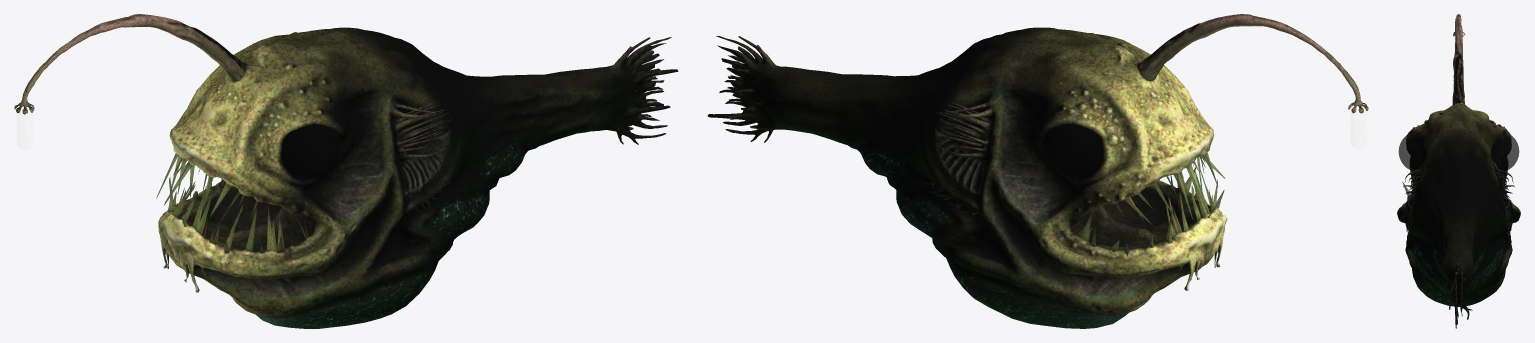
Rendered from deep-sea-fish-3dsm4.glb.
The picture shows the model from 3 angles, left to right: view 1: azimuth 30°, elevation 25°; view 2: azimuth 150°, elevation 25°; view 3: azimuth 270°, elevation 25°; orthographic projection. The views are drawn at different scales.
Parts seen in each view (by area): view 1: FishLOW_0, tOOTH.040_0, Plane_0, Sphere_0, Circle_0; view 2: FishLOW_0, Plane_0, tOOTH.040_0, Sphere_0, Circle_0; view 3: FishLOW_0, Plane_0, Sphere_0.
Part boxes in pixels (x1=…): FishLOW_0: x1=158, y1=27, x2=678, y2=328; tOOTH.040_0: x1=156, y1=153, x2=308, y2=253; Plane_0: x1=14, y1=14, x2=246, y2=114; Sphere_0: x1=281, y1=124, x2=340, y2=180; Circle_0: x1=16, y1=105, x2=33, y2=149; FishLOW_0: x1=707, y1=27, x2=1227, y2=328; Plane_0: x1=1137, y1=14, x2=1368, y2=113; tOOTH.040_0: x1=1071, y1=152, x2=1225, y2=255; Sphere_0: x1=1044, y1=124, x2=1103, y2=179; Circle_0: x1=1350, y1=104, x2=1366, y2=148; FishLOW_0: x1=1397, y1=102, x2=1520, y2=328; Plane_0: x1=1452, y1=14, x2=1465, y2=104; Sphere_0: x1=1398, y1=135, x2=1519, y2=171.
Size of the model in its own units: 22.09 by 11.37 by 6.03.
6 materials, 6 textured.
